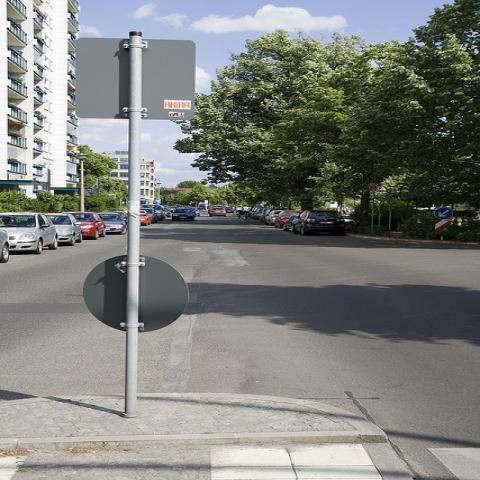car: (1, 194, 313, 277), (0, 212, 60, 255), (290, 210, 348, 236), (45, 213, 83, 246), (61, 212, 106, 239), (96, 212, 126, 233), (141, 205, 168, 221), (283, 212, 303, 231), (172, 208, 195, 221), (265, 210, 284, 225), (140, 208, 157, 223), (208, 206, 226, 217), (140, 210, 152, 226), (254, 208, 268, 220)
